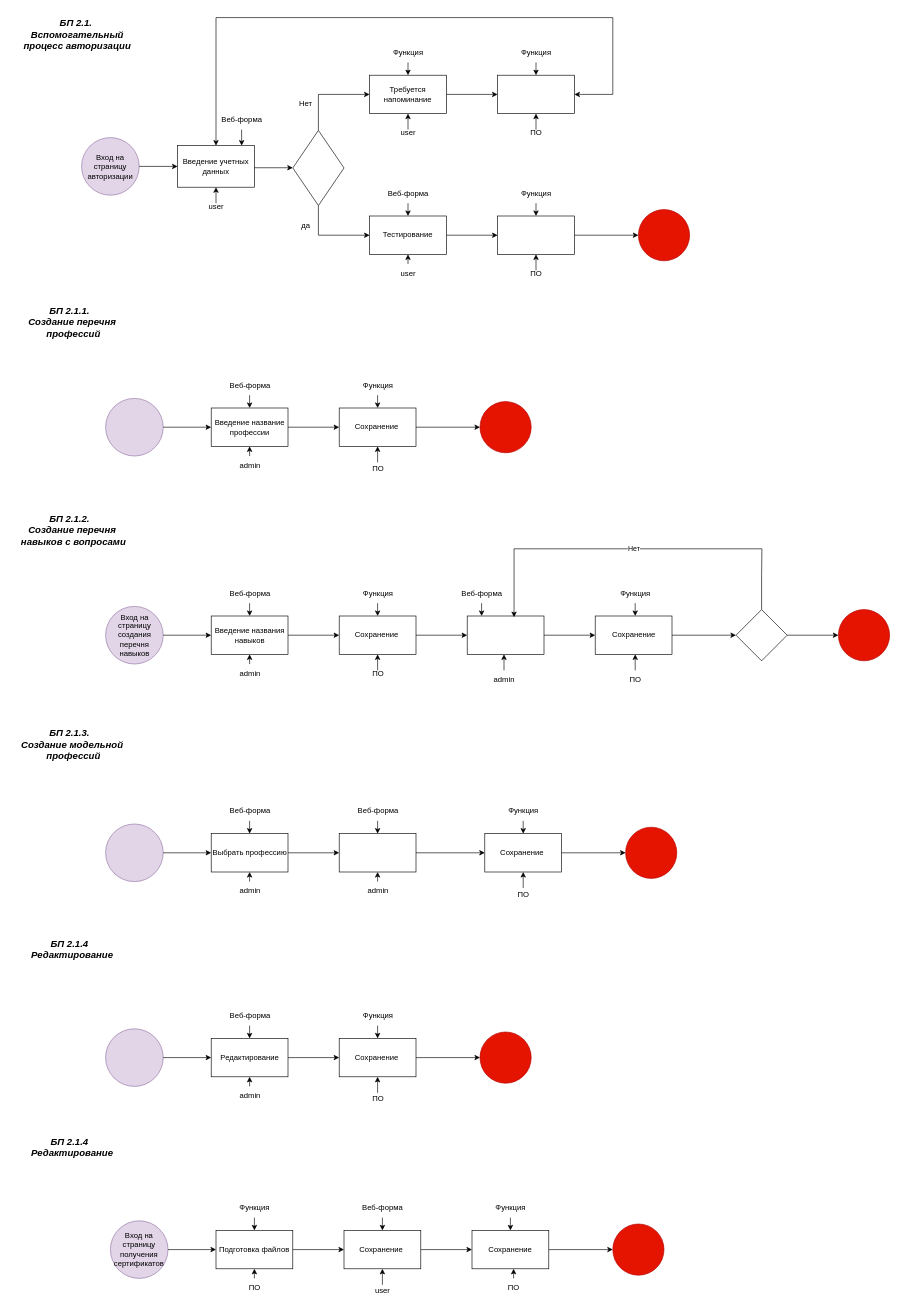
The diagram is 900 pixels wide and 1311 high, and some of its shapes have lost their labels. The centre of each missing label's shape, as x and y in pixels:
"Введение вопроса" goes at (x=505, y=634).
"Все?" goes at (x=761, y=635).
"Вход на страницу редактировани\" goes at (x=134, y=1057).
"Вход на страницу создания модельной профессии" goes at (x=134, y=852).
"Вход на страницу создания профессии" goes at (x=134, y=427).
"Дать новый пароль" goes at (x=535, y=94).
"Заполнить баллы навыков" goes at (x=377, y=852).
"Проверка учетных данных" goes at (x=318, y=168).
"Сохранение результатов" goes at (x=535, y=234).
